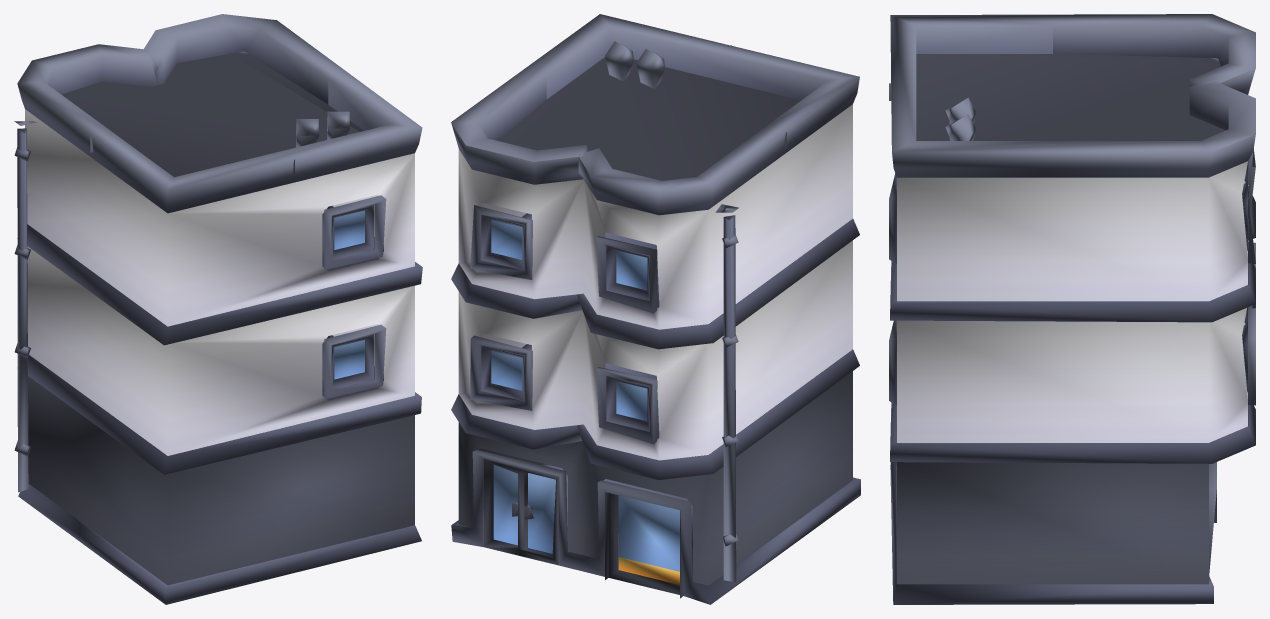
The model's file is tower-a-medium.glb.
The picture shows the model from 3 angles, left to right: view 1: azimuth 30°, elevation 25°; view 2: azimuth 150°, elevation 25°; view 3: azimuth 270°, elevation 25°; orthographic projection. The views are drawn at different scales.
Parts seen in each view (by area): view 1: building-a baked; view 2: building-a baked; view 3: building-a baked.
Boxes of the visible parts, <box> form: building-a baked: <box>14,14,422,604</box>; building-a baked: <box>451,14,860,604</box>; building-a baked: <box>889,14,1255,604</box>.
Size of the model in its own units: 19.12 by 28 by 20.3.
Materials: 1 (1 with a texture image).
